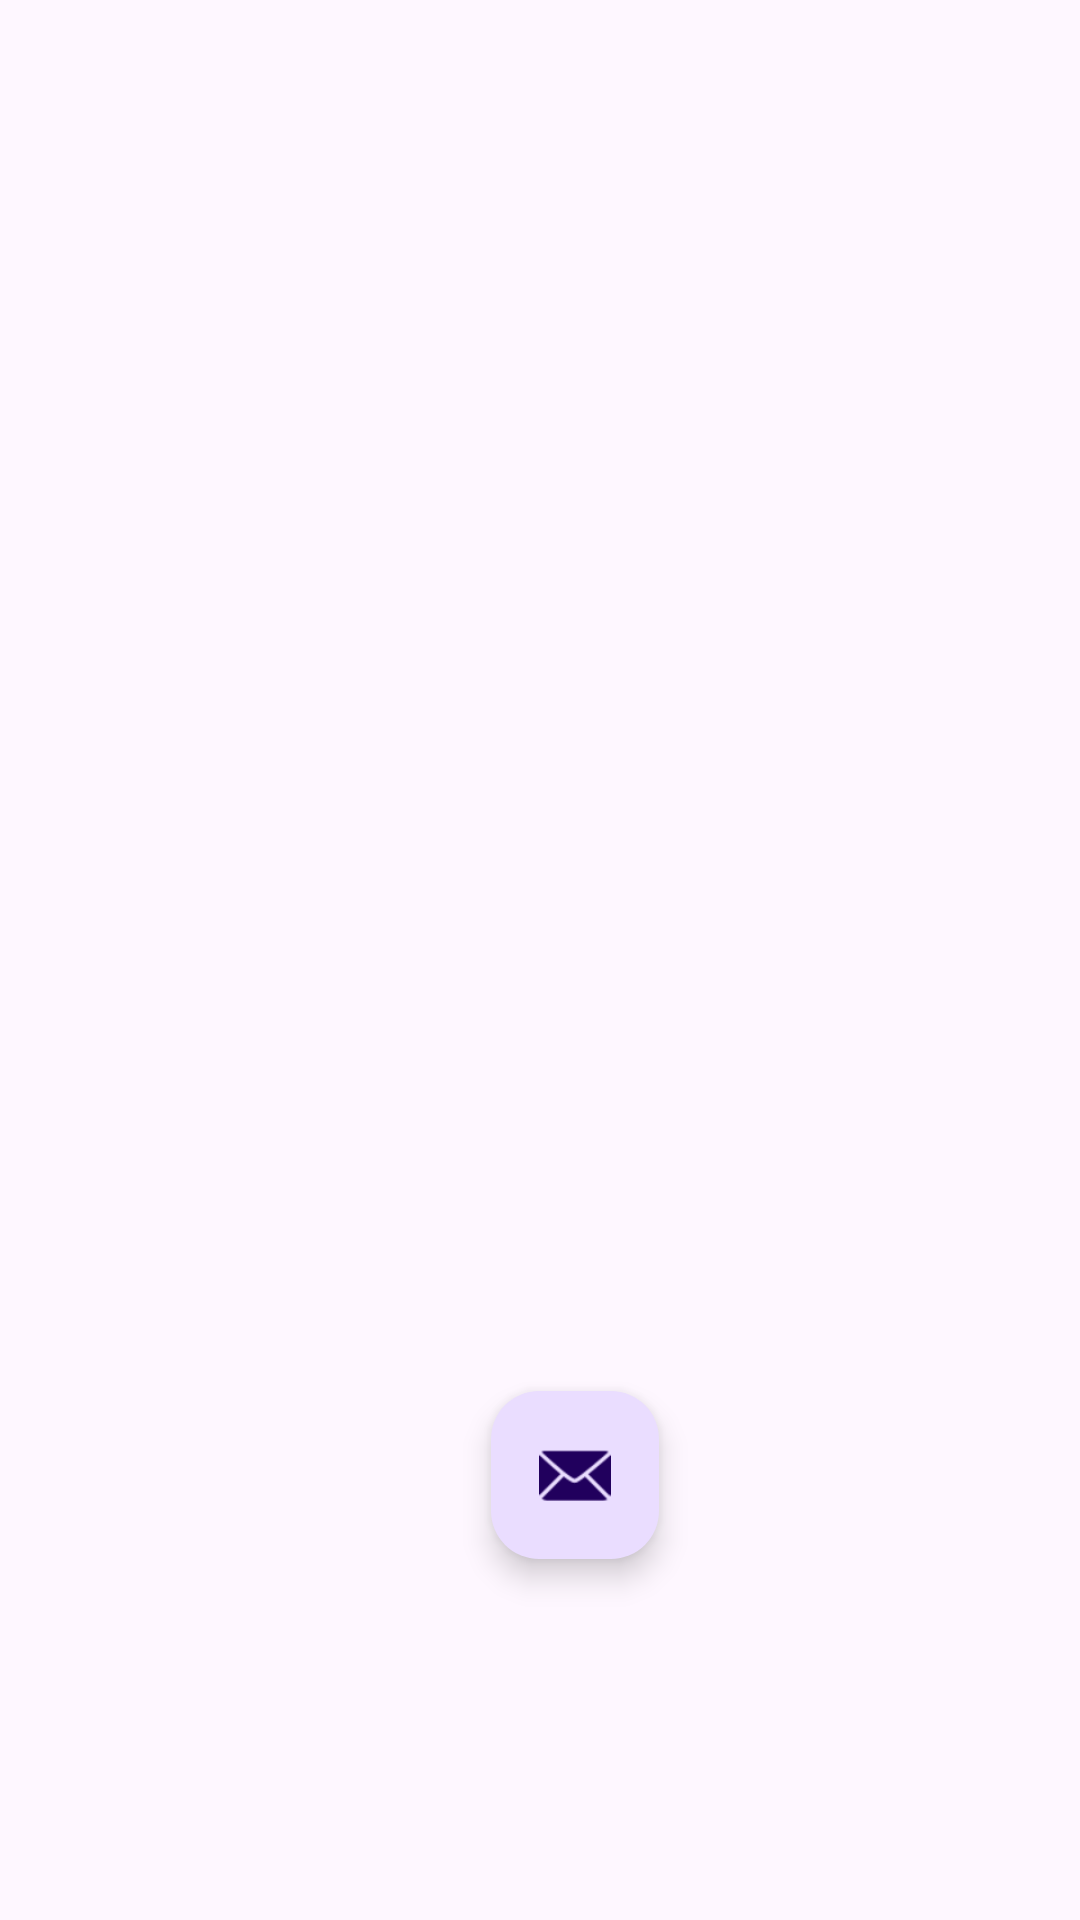

Icons on this 1080px x 1920px Android screen, each with its box as (x1, y1, x2, y2):
email: (491, 1391, 659, 1559)
